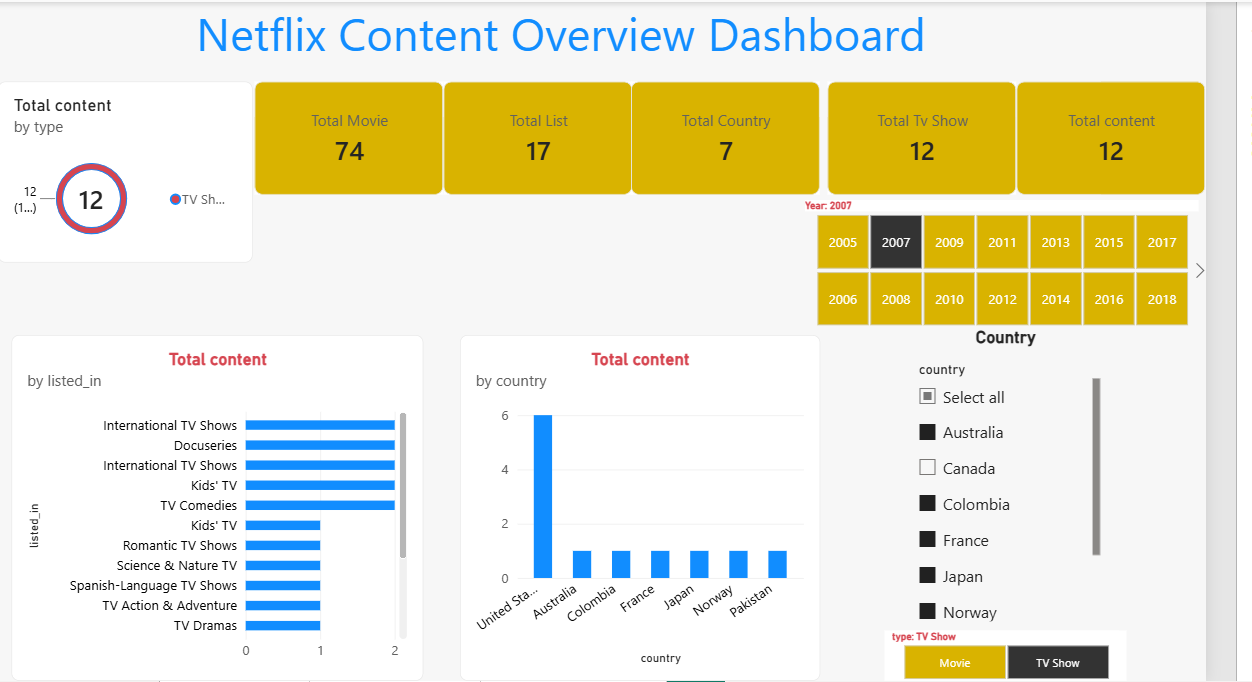

This screenshot's page, from the dashboard's own definition file:
{"tool":"powerbi","page":{"name":"Overview 1","canvas":[1280,720],"ordinal":0},"visuals":[{"type":"cardVisual","fields":{"Data":["Dataset.Total content"]},"box":[1080,85,200,120],"z":0},{"type":"cardVisual","fields":{"Data":["Dataset.Total List"]},"box":[471.7,85,200,120],"z":1000},{"type":"cardVisual","fields":{"Data":["Dataset.Total Movie"]},"box":[271.7,85,200,120],"z":2000},{"type":"cardVisual","fields":{"Data":["Dataset.Total Tv Show"]},"box":[880,85,200,120],"z":3000},{"type":"cardVisual","fields":{"Data":["Dataset.Total Country"]},"box":[671.7,85,200,120],"z":4000},{"type":"barChart","fields":{"Category":["Dataset.listed_in"],"Y":["Dataset.Total content"]},"box":[15,353.3,436.7,366.7],"z":5000},{"type":"columnChart","fields":{"Y":["Dataset.Total content"],"Category":["Dataset.country"]},"box":[490,353.3,381.7,366.7],"z":6000},{"type":"donutChart","fields":{"Category":["Dataset.type"],"Y":["Dataset.Total content"]},"box":[15,110,270,191.7],"z":7000},{"type":"slicer","title":"Year","fields":{"Values":["Dataset.release_year"]},"box":[842,192.7,433.1,134.8],"z":8000},{"type":"slicer","title":"Country","fields":{"Values":["Dataset.country"]},"box":[958.3,326.7,199.9,321],"z":9000},{"type":"slicer","fields":{"Values":["Dataset.type"]},"box":[940,666.7,256.7,53.3],"z":10000},{"type":"textbox","box":[25,0,1143.3,85],"z":12000}]}

Visuals, with their boxes on the page's 1280x720 design canvas (x1, y1, x2, y2). These are canvas units, not pixel positions in the 1252x682 screenshot, which may show the page scaled, cropped or inside an application window:
cardVisual - Dataset.Total content: detection(1080, 85, 1280, 205)
cardVisual - Dataset.Total List: detection(472, 85, 672, 205)
cardVisual - Dataset.Total Movie: detection(272, 85, 472, 205)
cardVisual - Dataset.Total Tv Show: detection(880, 85, 1080, 205)
cardVisual - Dataset.Total Country: detection(672, 85, 872, 205)
barChart - Dataset.listed_in x Dataset.Total content: detection(15, 353, 452, 720)
columnChart - Dataset.Total content x Dataset.country: detection(490, 353, 872, 720)
donutChart - Dataset.type x Dataset.Total content: detection(15, 110, 285, 302)
"Year" slicer: detection(842, 193, 1275, 328)
"Country" slicer: detection(958, 327, 1158, 648)
slicer - Dataset.type: detection(940, 667, 1197, 720)
textbox: detection(25, 0, 1168, 85)
